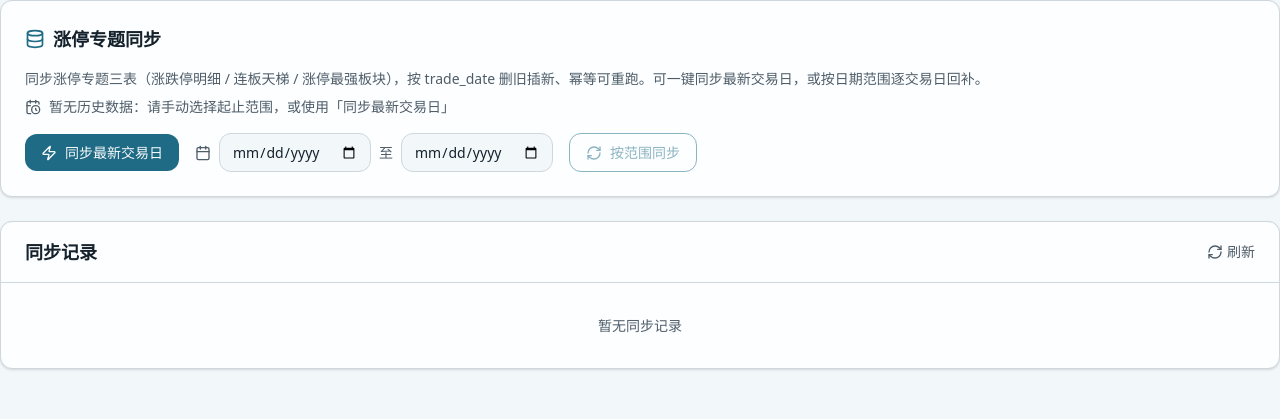
Scenario: LimitSyncPanel › 默认渲染与前端校验 › 起止倒置 / 未来 / 超 10 年：「按范围同步」禁用 + 各自错误提示
Type "2026-08-10" into the date field named "开始日期" at (295, 152), box 219,133 -> 371,172
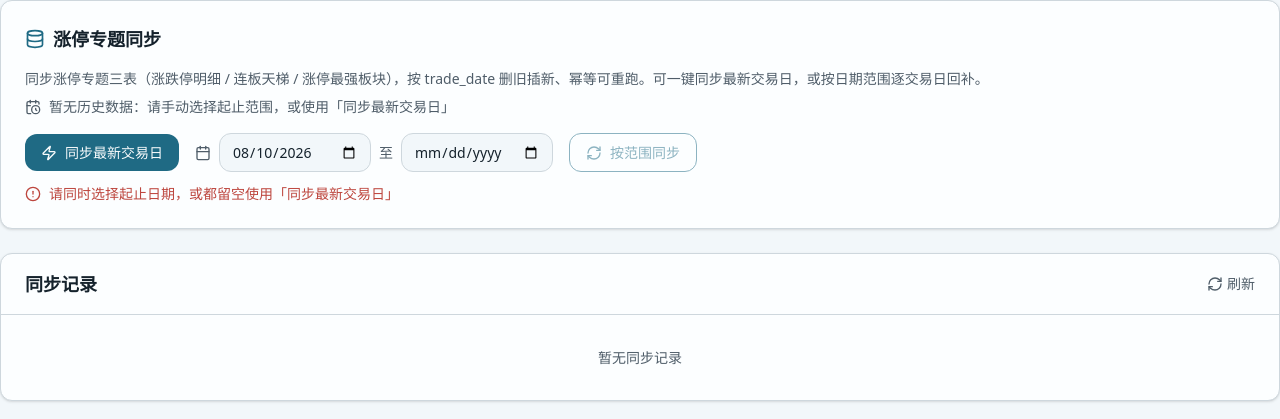
Type "2026-08-01" into the date field named "结束日期" at (477, 152), box 401,133 -> 553,172
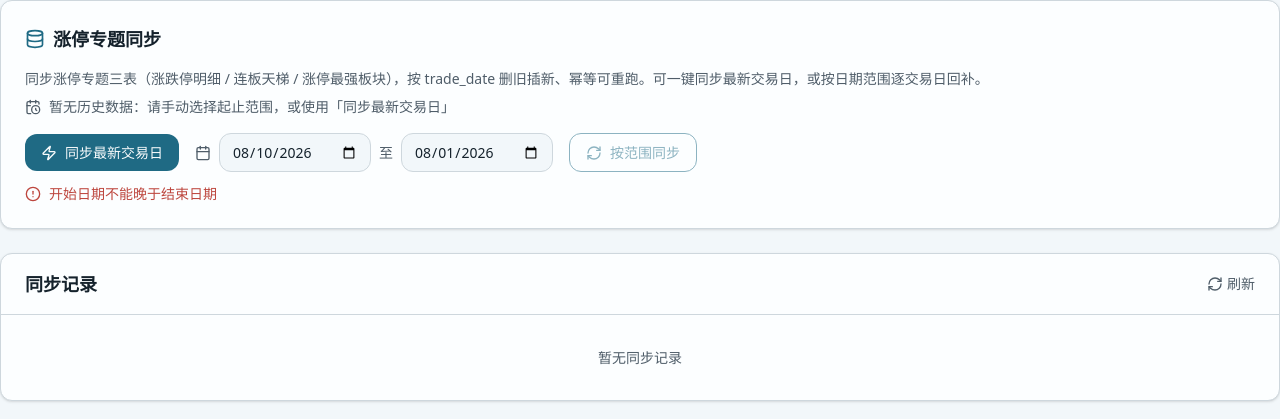
Check: the button with test id "limit-sync-start-button" is disabled, box 569,133 -> 697,172
Check: the element with test id "limit-sync-validation-error" shows "不能晚于", box 49,184 -> 217,203
Type "2026-08-01" into the date field named "开始日期" at (295, 152), box 219,133 -> 371,172
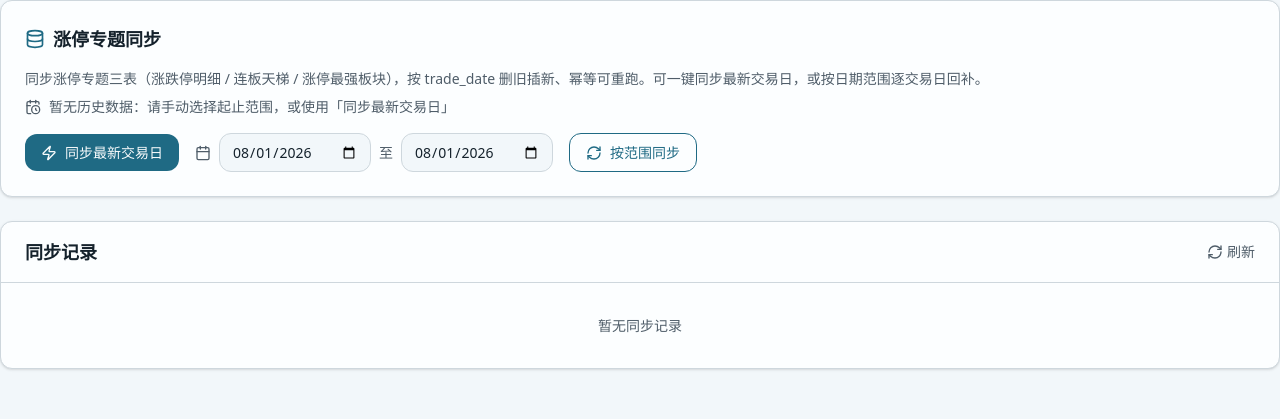
Type "2099-12-31" into the date field named "结束日期" at (477, 152), box 401,133 -> 553,172
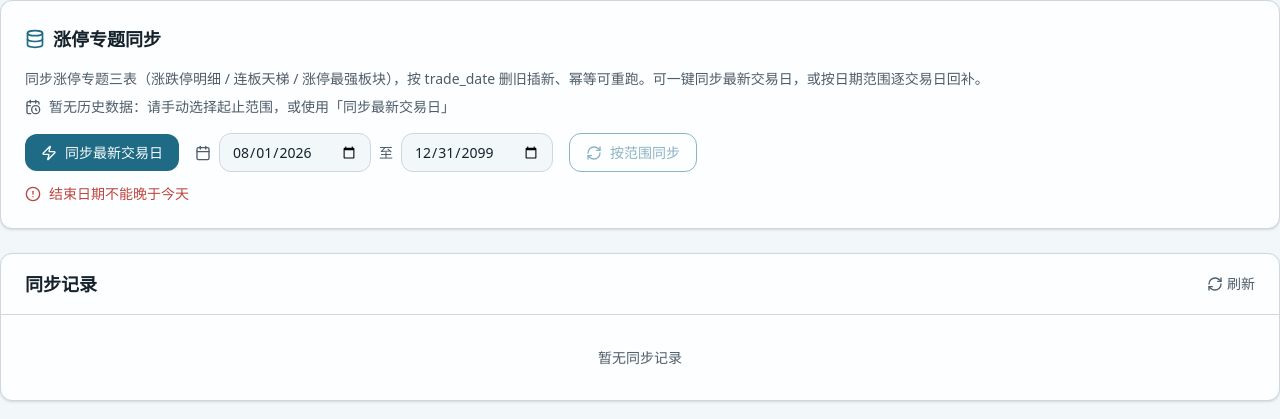
Check: the button with test id "limit-sync-start-button" is disabled, box 569,133 -> 697,172
Check: the element with test id "limit-sync-validation-error" shows "不能晚于今天", box 49,184 -> 189,203
Type "2000-01-01" into the date field named "开始日期" at (295, 152), box 219,133 -> 371,172
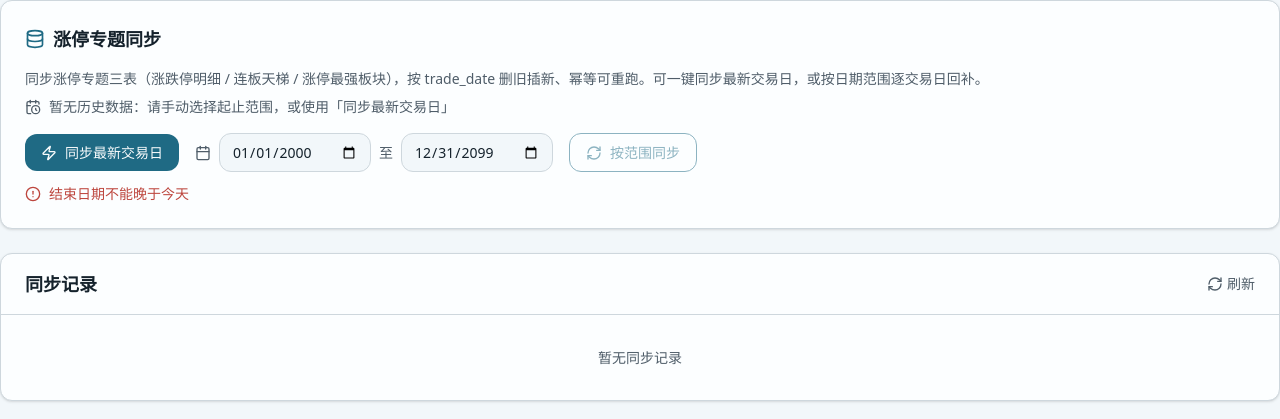
Type "2026-08-13" into the date field named "结束日期" at (477, 152), box 401,133 -> 553,172
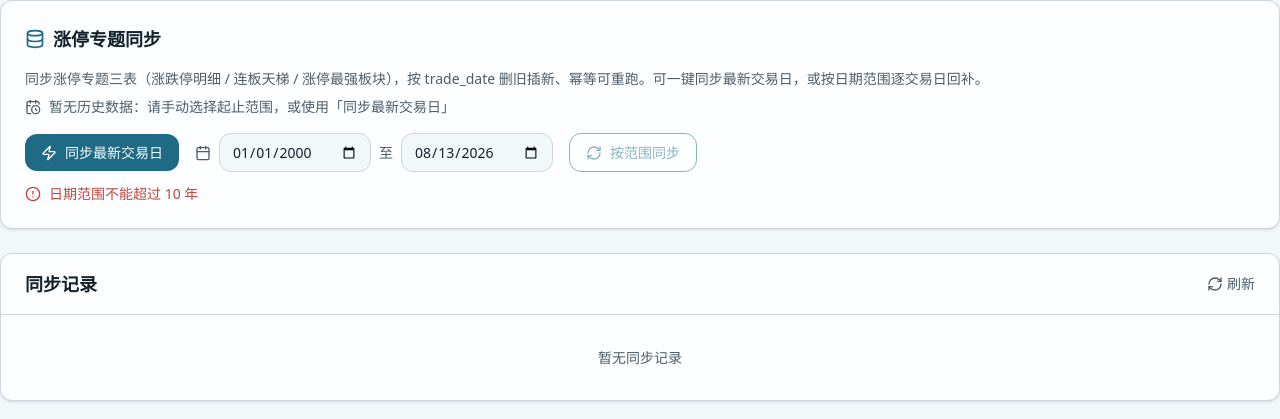
Check: the button with test id "limit-sync-start-button" is disabled, box 569,133 -> 697,172
Check: the element with test id "limit-sync-validation-error" shows "10 年", box 49,184 -> 198,203
